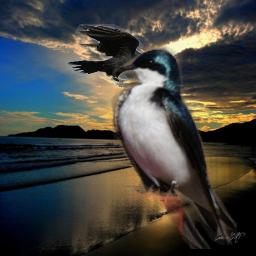Crow: (65, 24, 151, 87)
Swallow: (111, 46, 237, 249)
